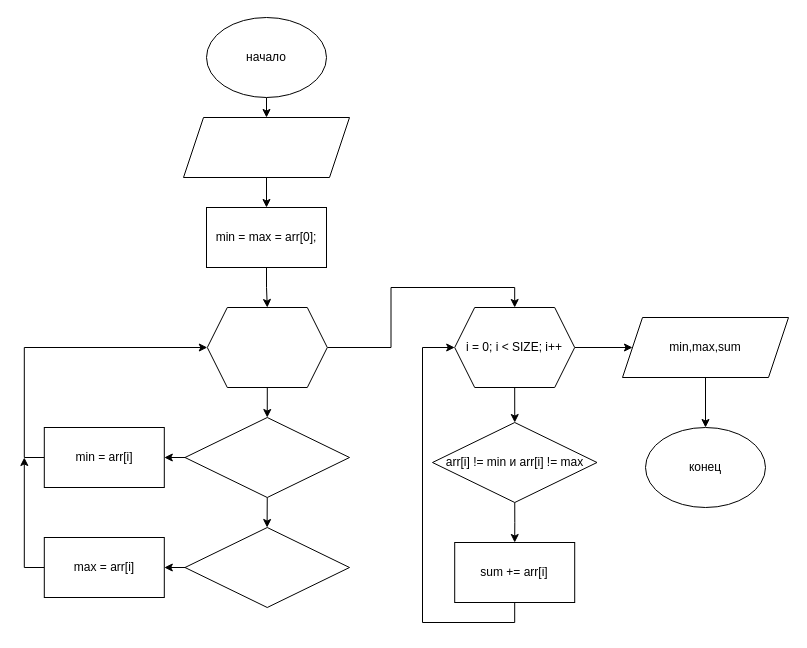
Image size: 807x648. Some labels were removed from this diagram. Here are the shapes that lost their labels. From the top down, the centre of each, then its label:
the point at 266,147: min,max,sum,i,arr[SIZE]
the point at 266,347: i = 1; i < SIZE; i++
the point at 267,457: arr[i] < min
the point at 267,567: arr[i] > max
